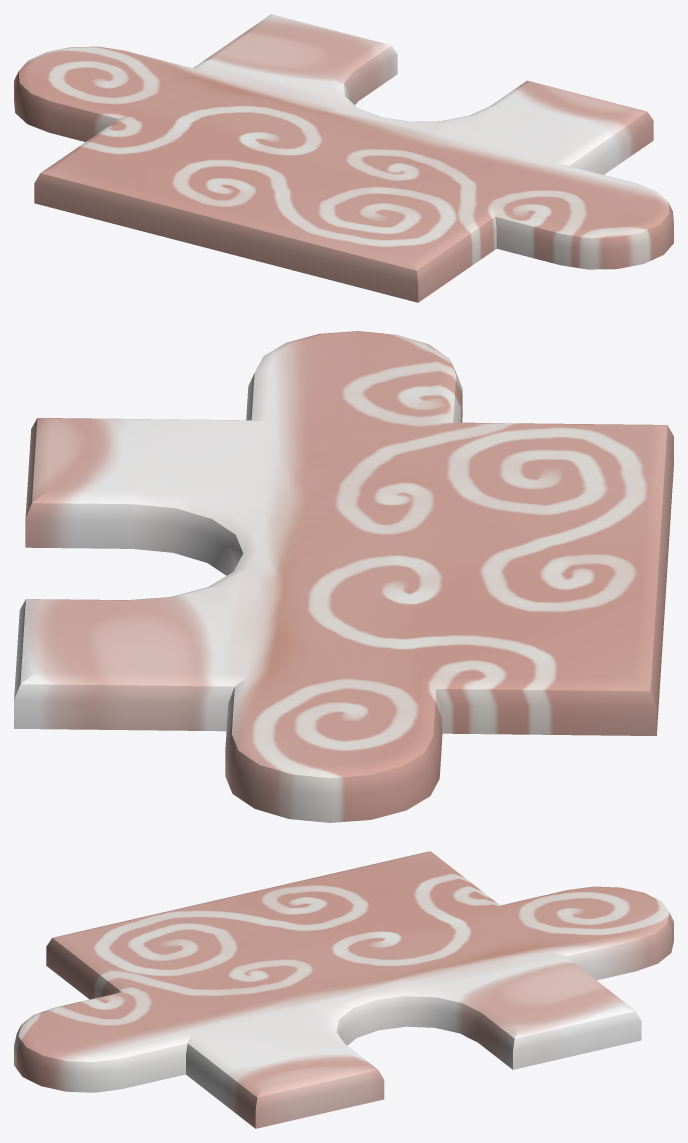
File: PuzzlePiece5.fbx
3 views of the same model, one above another, from view 1: azimuth 30°, elevation 25°; view 2: azimuth 150°, elevation 25°; view 3: azimuth 270°, elevation 25° (orthographic). The views are drawn at different scales.
Parts seen in each view (by area): view 1: polySurface5; view 2: polySurface5; view 3: polySurface5.
Part boxes in pixels (box(x1,y1,x2,y2)): polySurface5: box(14, 14, 673, 302); polySurface5: box(14, 331, 673, 822); polySurface5: box(14, 851, 673, 1128).
Bounding box in the file's own units: 1.36 × 0.0821 × 1.5.
Materials: 2 (1 with a texture image).
